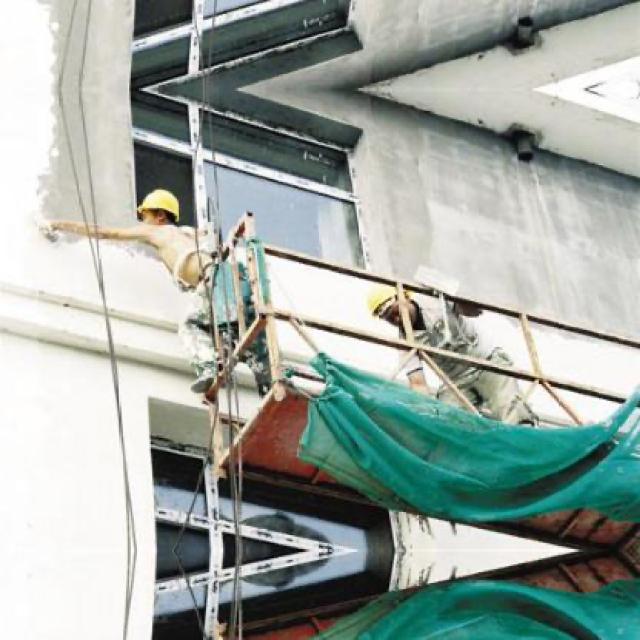con casco: (118, 172, 214, 241), (469, 286, 472, 287)
